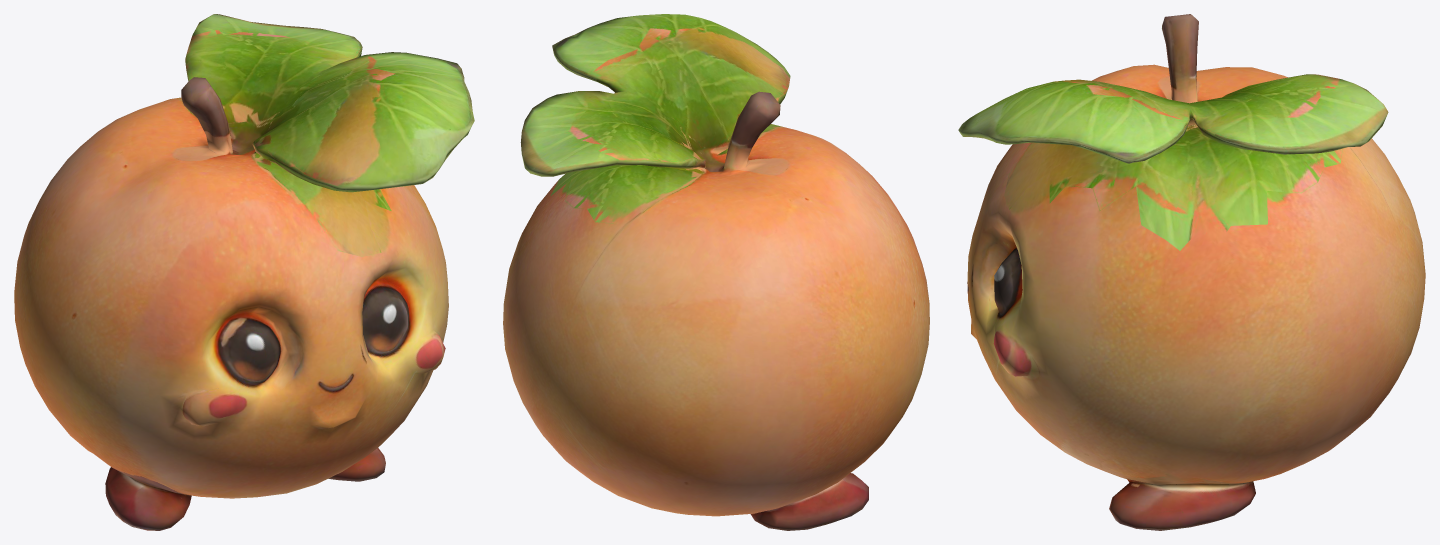
Rendered from peach.glb.
3 renders of one model, left to right at view 1: azimuth 30°, elevation 25°; view 2: azimuth 150°, elevation 25°; view 3: azimuth 270°, elevation 25°, orthographic. The views are drawn at different scales.
Parts seen in each view (by area): view 1: Mesh1; view 2: Mesh1; view 3: Mesh1.
Boxes of the visible parts, x1,y1,x2,y2 form: Mesh1: (14, 14, 474, 530); Mesh1: (503, 14, 929, 530); Mesh1: (958, 14, 1425, 530).
Bounding box in the file's own units: 1.93 × 1.99 × 1.93.
Materials: 1 (1 with a texture image).
